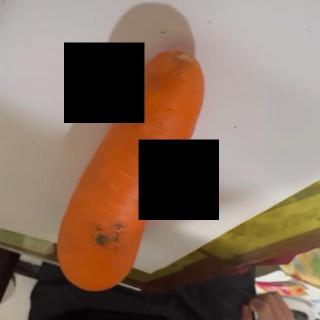carrot: (56, 49, 206, 293)
